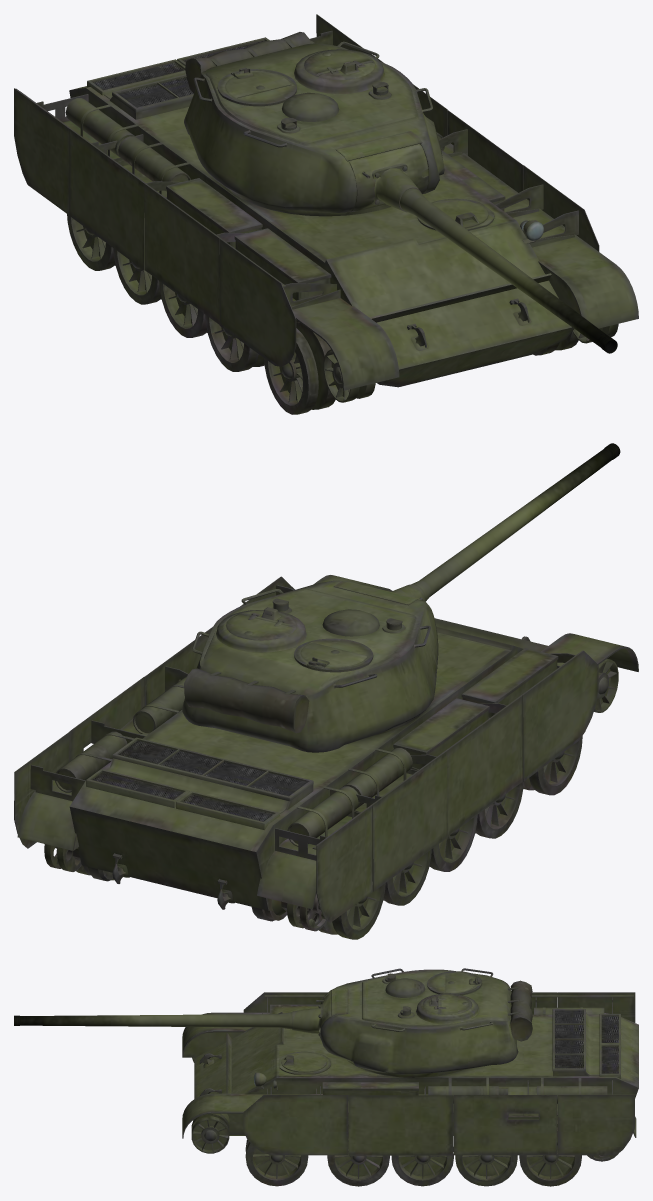
The picture shows the model from 3 angles, top to bottom: view 1: azimuth 30°, elevation 25°; view 2: azimuth 150°, elevation 25°; view 3: azimuth 270°, elevation 25°; orthographic projection. The views are drawn at different scales.
Parts seen in each view (by area): view 1: Wanne, turret, cannon, radL5, radL4, radL3, radL1, radL6, radL2; view 2: Wanne, turret, cannon, radL1, radL5, radL4, radL3, radL2, radL6, radL0; view 3: Wanne, turret, cannon, radR5, radR1, radR4, radR3, radR2, radR6.
Part boxes in pixels (x1,y1,x2,y2): Wanne: (14,14,638,414); turret: (184,32,444,216); cannon: (362,163,617,353); radL5: (264,322,328,414); radL4: (205,315,264,371); radL3: (159,281,207,337); radL1: (67,214,115,270); radL6: (323,349,375,402); radL2: (113,248,161,304); Wanne: (14,575,638,939); turret: (182,580,438,752); cannon: (391,443,620,601); radL1: (324,882,385,939); radL5: (523,736,582,795); radL4: (475,768,523,838); radL3: (429,815,477,871); radL2: (383,849,431,905); radL6: (594,659,618,712); radL0: (272,894,327,931); Wanne: (182,992,638,1180); turret: (319,968,532,1077); cannon: (14,1000,323,1035); radR5: (245,1141,307,1186); radR1: (519,1124,581,1186); radR4: (327,1125,389,1186); radR3: (391,1150,453,1186); radR2: (455,1155,517,1186); radR6: (191,1113,229,1153).
Bounding box in the file's own units: 3.25 × 2.27 × 8.31.
Materials: 1 (1 with a texture image).
